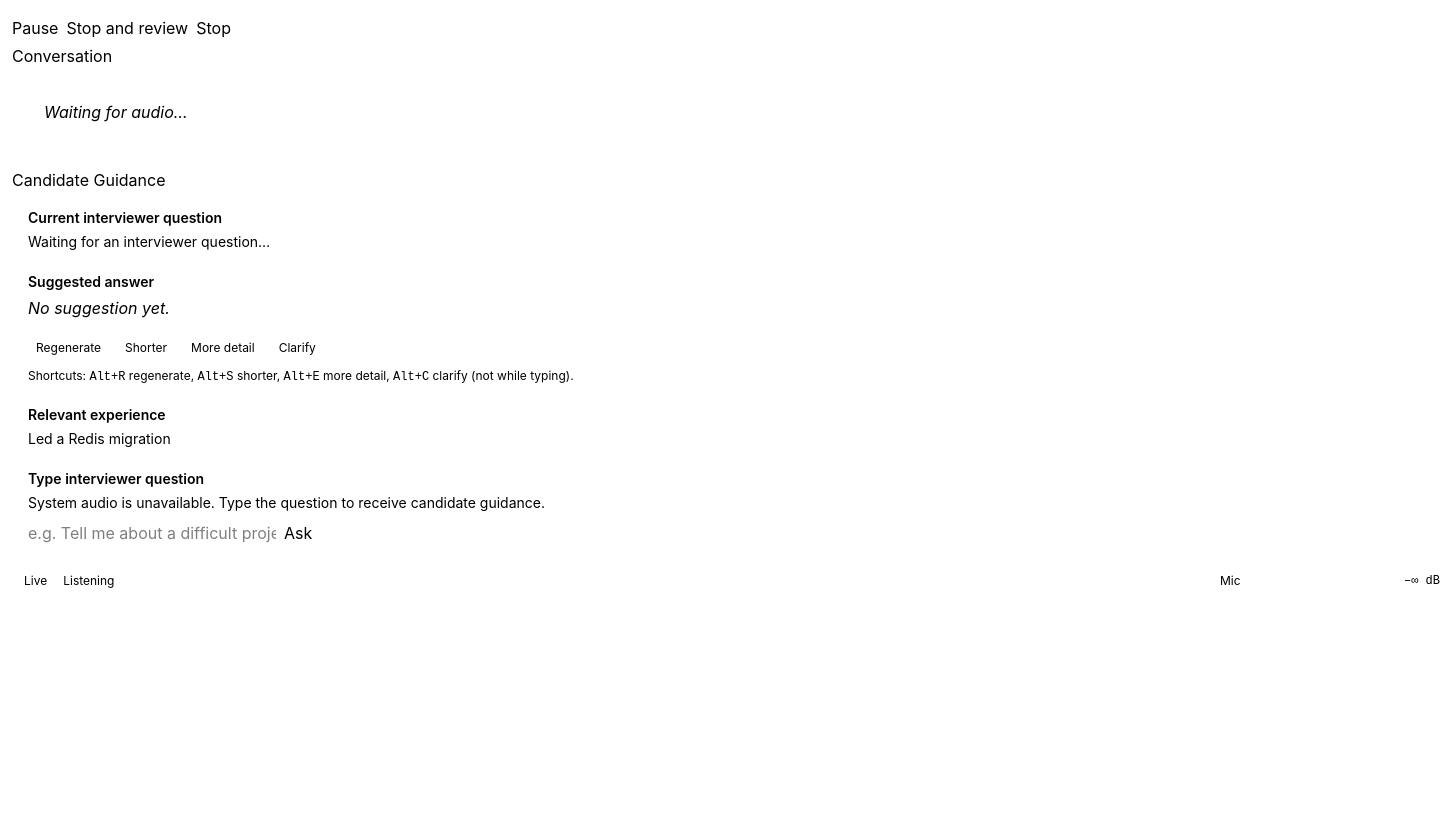
Test: keeps Paused when guidance arrives while paused
Click the button "Pause" at (35,28), box [12, 12, 58, 44]
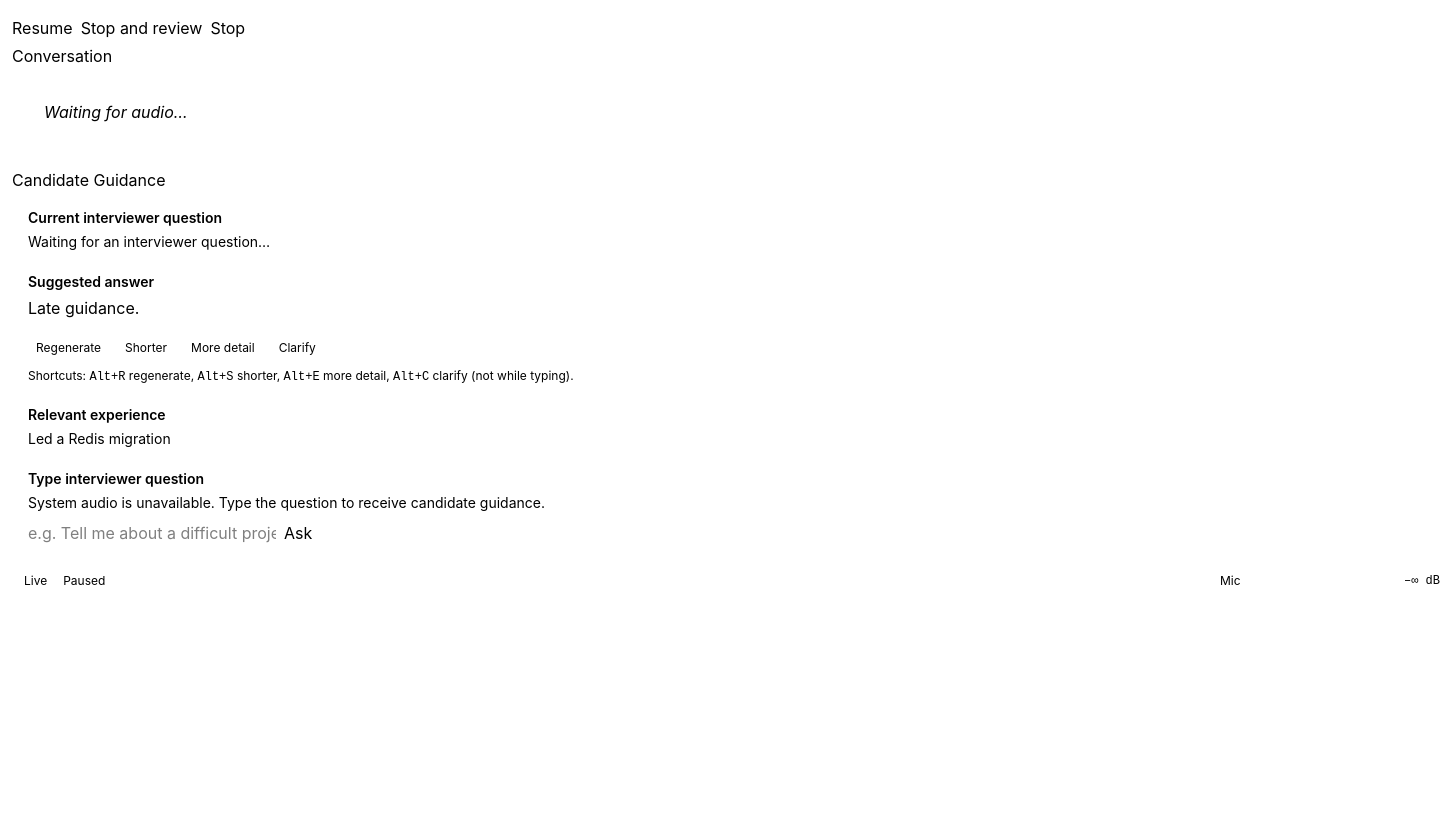
Check: the text "Paused" is shown, box [63, 573, 105, 589]
Check: the text "Listening" is gone
